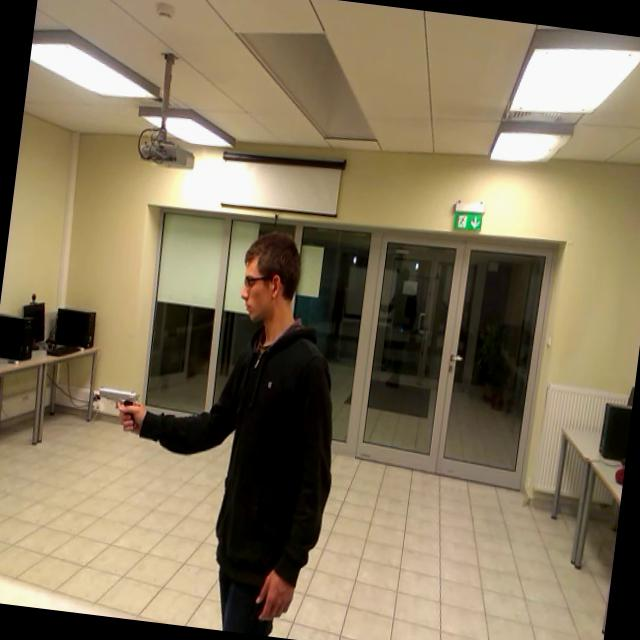handgun: (85, 375, 150, 444)
